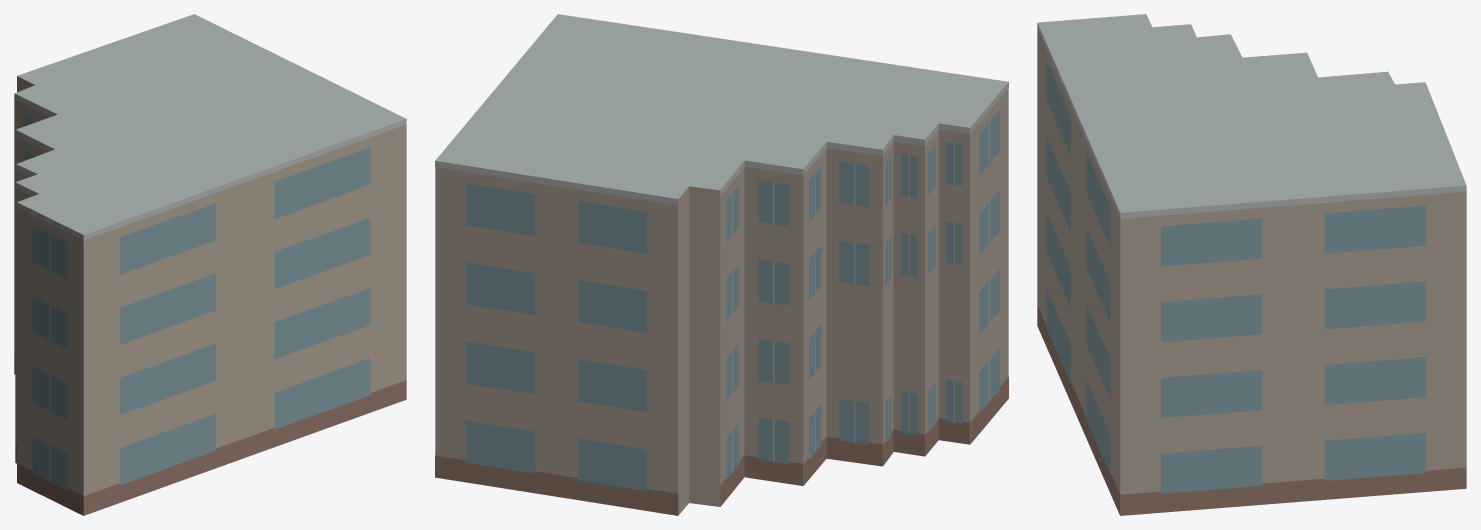
The model's file is survey-upis-32472407.glb.
3 views of the same model, side by side, from view 1: azimuth 30°, elevation 25°; view 2: azimuth 150°, elevation 25°; view 3: azimuth 270°, elevation 25° (orthographic). The views are drawn at different scales.
Parts seen in each view (by area): view 1: survey-upis-32472407.tmp; view 2: survey-upis-32472407.tmp; view 3: survey-upis-32472407.tmp.
Boxes of the visible parts, bbox=[...] form: survey-upis-32472407.tmp: bbox=[14, 14, 406, 515]; survey-upis-32472407.tmp: bbox=[435, 14, 1008, 515]; survey-upis-32472407.tmp: bbox=[1037, 14, 1466, 515].
Bounding box in the file's own units: 17.18 × 12.2 × 15.67.
